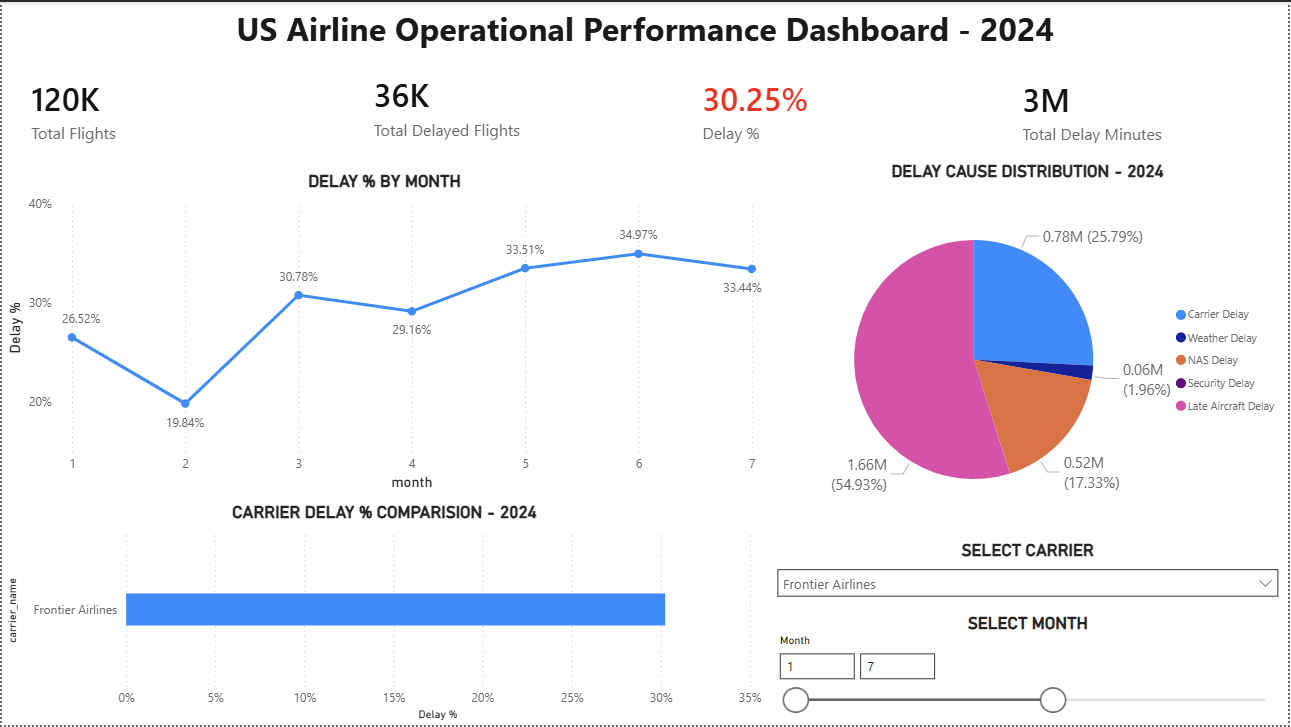

The dashboard page shown, as its layout file describes it:
{"tool":"powerbi","page":{"name":"Page 1","canvas":[1280,720],"ordinal":0},"visuals":[{"type":"cardVisual","fields":{"Data":["airline_project airline_delay_cause.Total Flights"]},"box":[0,57.2,340.8,100.8],"z":0},{"type":"cardVisual","fields":{"Data":["airline_project airline_delay_cause.Total Delayed Flights"]},"box":[340.8,49.8,327.2,108.2],"z":1000},{"type":"cardVisual","fields":{"Data":["airline_project airline_delay_cause.Delay %"]},"box":[668,57.2,318.5,100.8],"z":2000},{"type":"cardVisual","fields":{"Data":["airline_project airline_delay_cause.Total Delay Minutes"]},"box":[986.5,58.5,293.6,99.5],"z":3000},{"type":"lineChart","title":"DELAY % BY MONTH","fields":{"Category":["airline_project airline_delay_cause.month"],"Y":["airline_project airline_delay_cause.Delay %"]},"box":[0,167.9,761.3,323.4],"z":4000},{"type":"pieChart","title":"DELAY CAUSE DISTRIBUTION - 2024","fields":{"Y":["Sum(airline_project airline_delay_cause.carrier_delay)","Sum(airline_project airline_delay_cause.weather_delay)","Sum(airline_project airline_delay_cause.nas_delay)","Sum(airline_project airline_delay_cause.security_delay)","airline_project airline_delay_cause.Late Aircraft Delay"]},"box":[761.3,158,518.7,376.9],"z":5000},{"type":"clusteredBarChart","title":"CARRIER DELAY % COMPARISION - 2024","fields":{"Category":["airline_project airline_delay_cause.carrier_name"],"Y":["airline_project airline_delay_cause.Delay %"]},"box":[0,497.6,761.3,222.7],"z":6000},{"type":"slicer","title":"SELECT CARRIER","fields":{"Values":["airline_project airline_delay_cause.carrier_name"]},"box":[761.2,534.5,518.8,74.1],"z":7000},{"type":"slicer","title":"SELECT MONTH","fields":{"Values":["airline_project airline_delay_cause.month"]},"box":[761.2,608.6,518.8,111.2],"z":8000},{"type":"textbox","box":[0,0,1280,74.6],"z":8001}]}

Visuals, with their boxes in screenshot pixels (x1, y1, x2, y2), scaled from the page's 1280x720 canvas onto the 1291x727 screenshot:
cardVisual - airline_project airline_delay_cause.Total Flights: region(0, 58, 344, 160)
cardVisual - airline_project airline_delay_cause.Total Delayed Flights: region(344, 50, 674, 160)
cardVisual - airline_project airline_delay_cause.Delay %: region(674, 58, 995, 160)
cardVisual - airline_project airline_delay_cause.Total Delay Minutes: region(995, 59, 1290, 160)
"DELAY % BY MONTH" lineChart: region(0, 170, 768, 496)
"DELAY CAUSE DISTRIBUTION - 2024" pieChart: region(768, 160, 1290, 540)
"CARRIER DELAY % COMPARISION - 2024" clusteredBarChart: region(0, 502, 768, 726)
"SELECT CARRIER" slicer: region(768, 540, 1290, 615)
"SELECT MONTH" slicer: region(768, 615, 1290, 726)
textbox: region(0, 0, 1290, 75)
